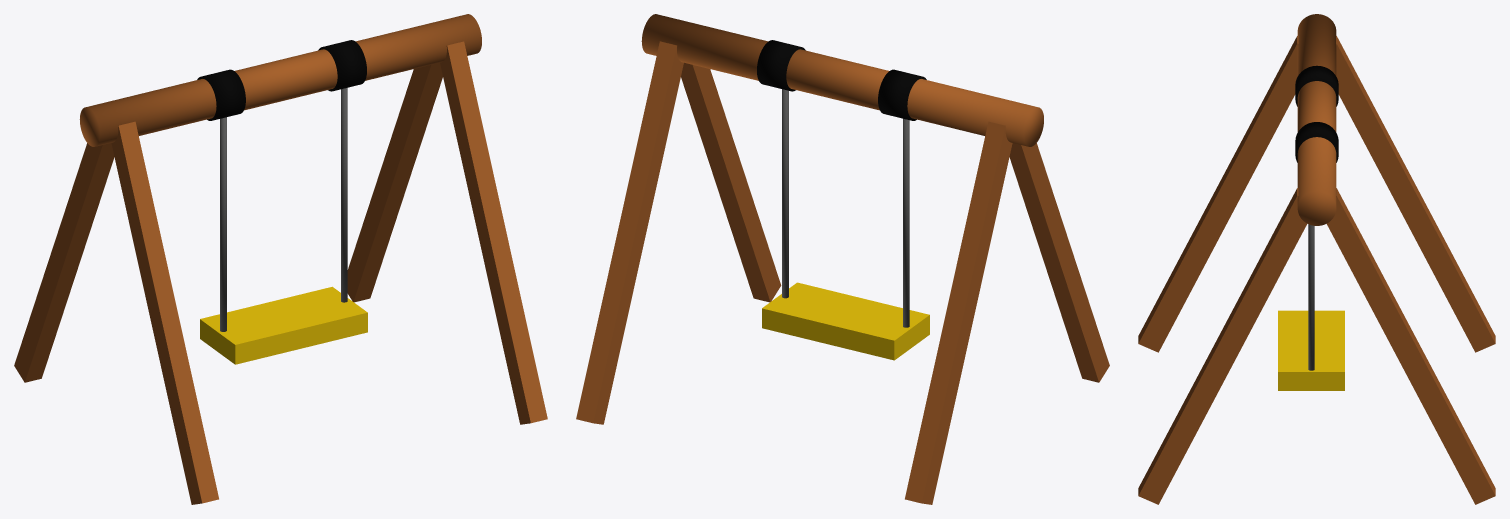
Rendered from ayunan.fbx.
3 views of the same model, side by side, from view 1: azimuth 30°, elevation 25°; view 2: azimuth 150°, elevation 25°; view 3: azimuth 270°, elevation 25° (orthographic). The views are drawn at different scales.
Parts seen in each view (by area): view 1: ayunan; view 2: ayunan; view 3: ayunan.
Boxes of the visible parts, x1,y1,x2,y2 form: ayunan: (14, 14, 547, 504); ayunan: (576, 14, 1109, 504); ayunan: (1138, 14, 1495, 504).
Size of the model in its own units: 211 by 181 by 180.
